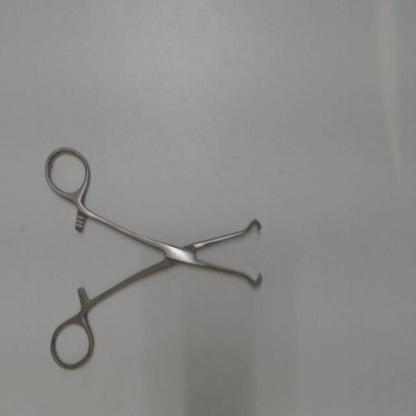Babcock Tissue Forceps: (42, 139, 266, 374)
